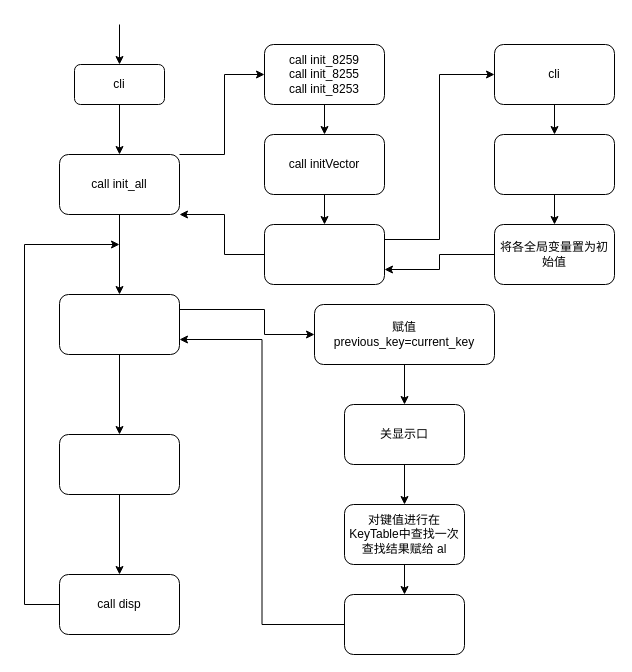
Image size: 632x672. Some labels were removed from this diagram. Each missing label, with the centre of its shape:
"call clean_all" belongs at point 324,254.
"call get_key" belongs at point 119,324.
"call handle_key" belongs at point 119,464.
"call init_stack call clean_led call ProcTurnOff" belongs at point 554,164.
"赋值 current_key = al" belongs at point 404,624.
